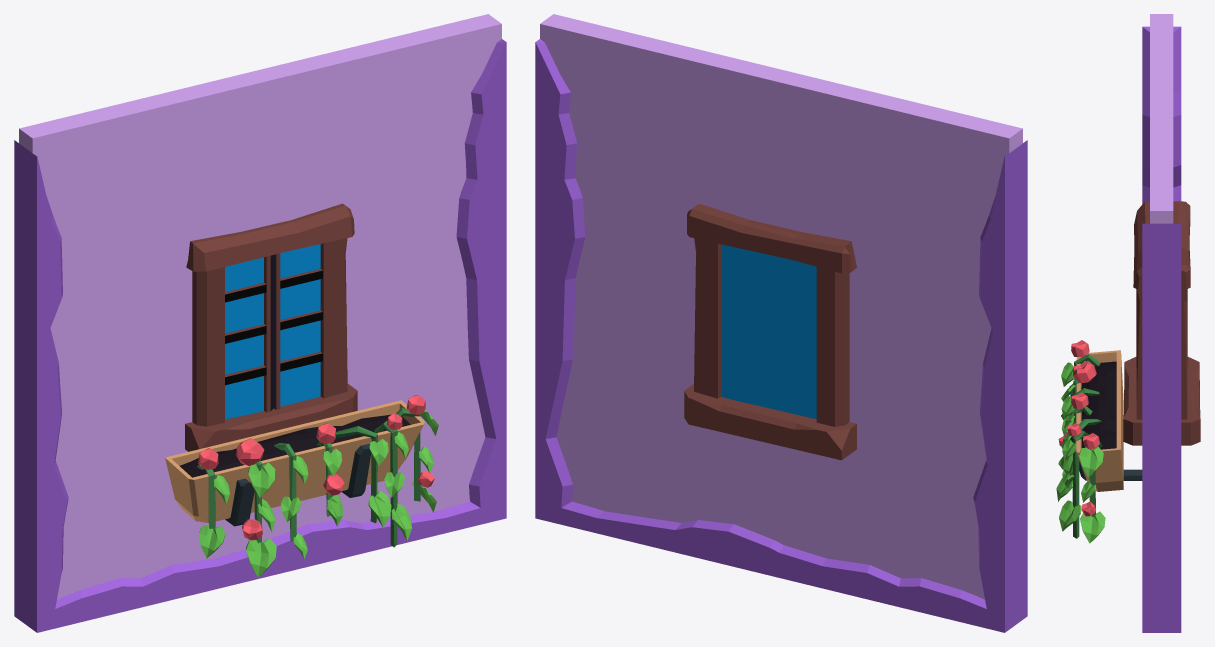
File: Modular Wall 01 MK2 W4.fbx
3 renders of one model, left to right at view 1: azimuth 30°, elevation 25°; view 2: azimuth 150°, elevation 25°; view 3: azimuth 270°, elevation 25°, orthographic. The views are drawn at different scales.
Visible parts, largest first — view 1: Modular Wall 01 MK2 W4; view 2: Modular Wall 01 MK2 W4; view 3: Modular Wall 01 MK2 W4.
Part boxes in pixels (box(x1,y1,x2,y2)): Modular Wall 01 MK2 W4: box(14, 14, 506, 632); Modular Wall 01 MK2 W4: box(535, 14, 1027, 632); Modular Wall 01 MK2 W4: box(1056, 14, 1200, 632).
Bounding box in the file's own units: 400 × 400 × 124.
